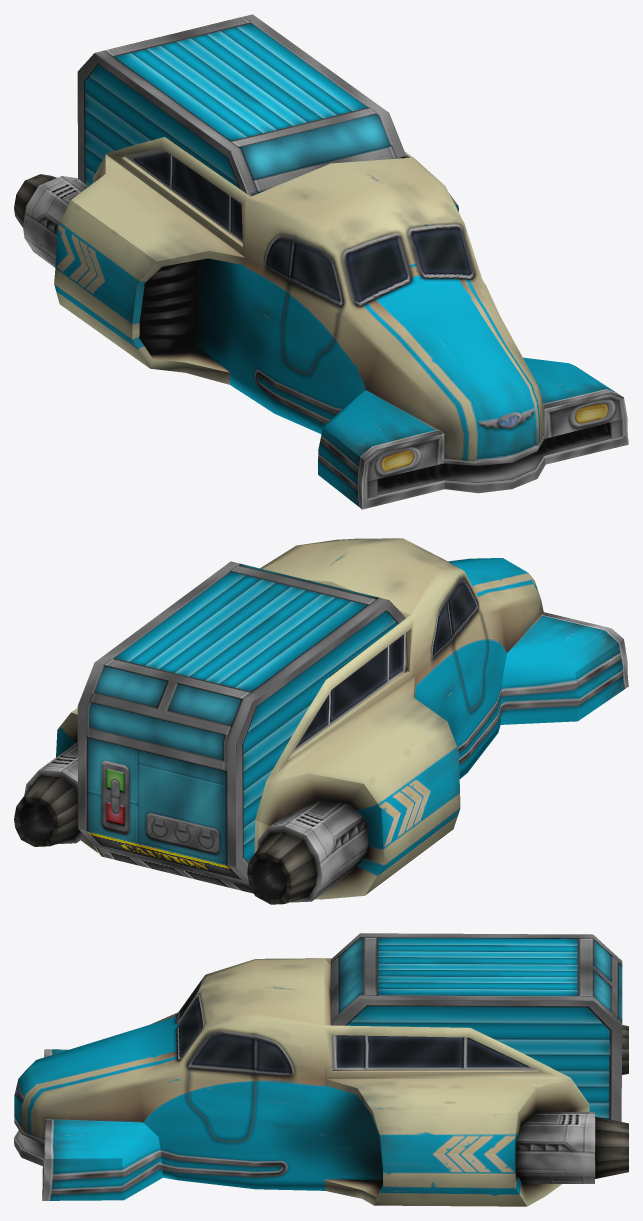
The model's file is JpCarga1_low.FBX.
3 renders of one model, top to bottom at view 1: azimuth 30°, elevation 25°; view 2: azimuth 150°, elevation 25°; view 3: azimuth 270°, elevation 25°, orthographic. The views are drawn at different scales.
Visible parts, largest first — view 1: JpCarga1; view 2: JpCarga1; view 3: JpCarga1.
Boxes of the visible parts, left/top/right/bottom form: JpCarga1: left=14, top=14, right=628, bottom=509; JpCarga1: left=14, top=538, right=628, bottom=904; JpCarga1: left=14, top=933, right=628, bottom=1206.
Size of the model in its own units: 2.02 by 1.25 by 3.81.
